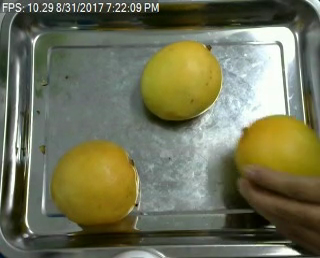Mango: (51, 141, 139, 227), (139, 39, 223, 121)
